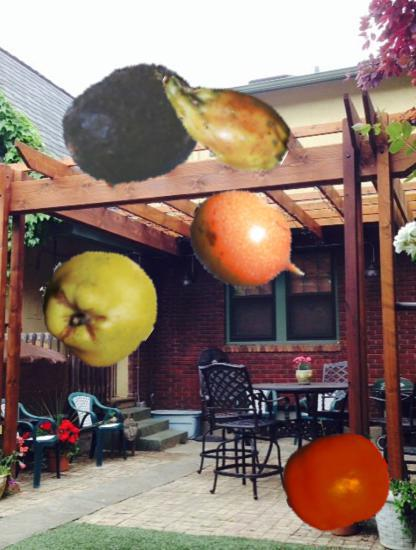Avocado: (62, 55, 202, 195)
Cactus: (150, 49, 295, 194)
Clementine: (282, 427, 390, 535)
Granadilla: (186, 180, 313, 307)
Quince: (41, 248, 158, 365)
